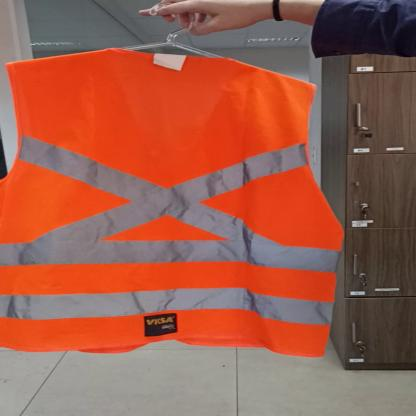colete: (1, 49, 336, 366)
